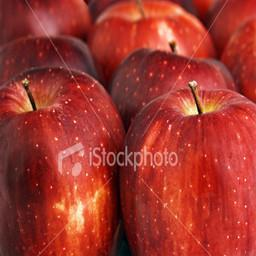apple: (1, 64, 124, 256), (120, 86, 256, 256), (88, 1, 220, 85), (107, 46, 234, 125)
